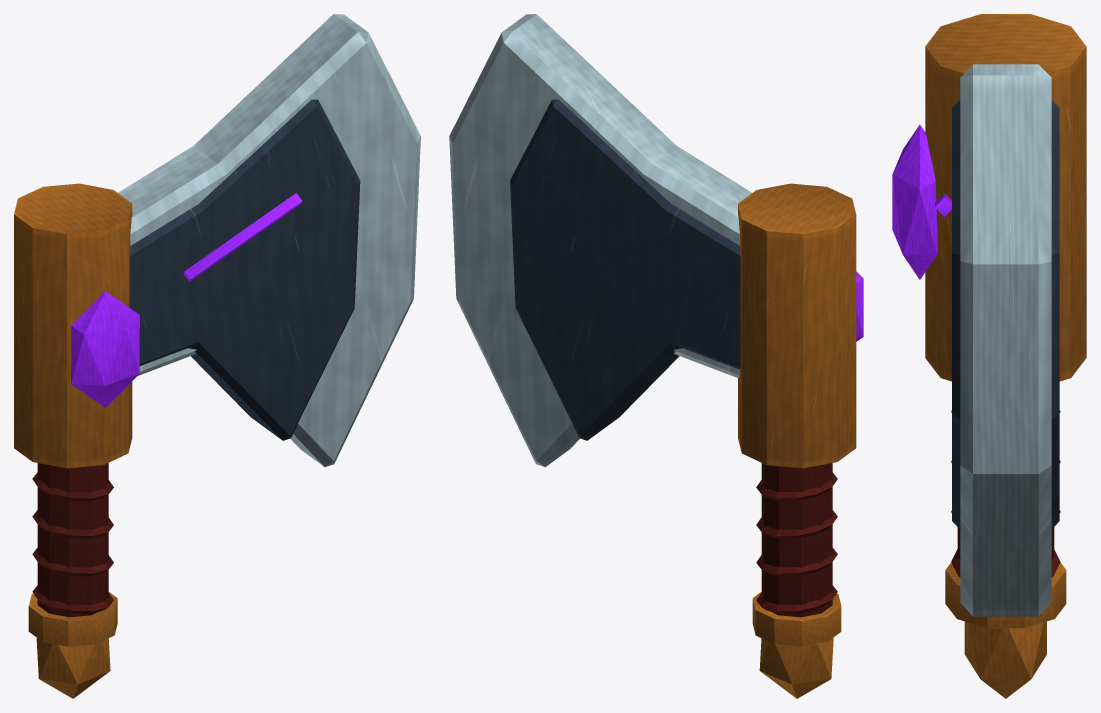
File: axe-t2.glb
The picture shows the model from 3 angles, left to right: view 1: azimuth 30°, elevation 25°; view 2: azimuth 150°, elevation 25°; view 3: azimuth 270°, elevation 25°; orthographic projection. The views are drawn at different scales.
Parts seen in each view (by area): view 1: Axe dark inset, Crescent cutting edge, Axe socket, Leather grip, Void socket, Faceted pommel, Grip ferrule, Axe inlay, Raised grip wrap.002, Raised grip wrap.001, Raised grip wrap, Raised grip wrap.003; view 2: Axe dark inset, Crescent cutting edge, Axe socket, Leather grip, Faceted pommel, Grip ferrule, Raised grip wrap.002, Raised grip wrap.001, Raised grip wrap, Raised grip wrap.003; view 3: Crescent cutting edge, Axe socket, Axe dark inset, Void socket, Faceted pommel, Grip ferrule.
Part boxes in pixels (x1=…): Axe dark inset: x1=129, y1=99, x2=360, y2=440; Crescent cutting edge: x1=118, y1=14, x2=420, y2=466; Axe socket: x1=14, y1=183, x2=132, y2=468; Leather grip: x1=37, y1=463, x2=108, y2=617; Void socket: x1=71, y1=291, x2=139, y2=407; Faceted pommel: x1=36, y1=638, x2=110, y2=698; Grip ferrule: x1=28, y1=592, x2=117, y2=646; Axe inlay: x1=183, y1=193, x2=302, y2=281; Raised grip wrap.002: x1=32, y1=510, x2=113, y2=538; Raised grip wrap.001: x1=32, y1=548, x2=113, y2=576; Raised grip wrap: x1=32, y1=585, x2=113, y2=613; Raised grip wrap.003: x1=32, y1=472, x2=113, y2=500; Axe dark inset: x1=510, y1=99, x2=740, y2=440; Crescent cutting edge: x1=449, y1=14, x2=751, y2=467; Axe socket: x1=738, y1=183, x2=856, y2=468; Leather grip: x1=761, y1=463, x2=832, y2=617; Faceted pommel: x1=759, y1=637, x2=833, y2=698; Grip ferrule: x1=752, y1=592, x2=841, y2=646; Raised grip wrap.002: x1=756, y1=510, x2=837, y2=538; Raised grip wrap.001: x1=756, y1=548, x2=837, y2=576; Raised grip wrap: x1=756, y1=585, x2=837, y2=613; Raised grip wrap.003: x1=756, y1=472, x2=837, y2=500; Crescent cutting edge: x1=960, y1=64, x2=1051, y2=616; Axe socket: x1=925, y1=14, x2=1086, y2=381; Axe dark inset: x1=952, y1=100, x2=1059, y2=529; Void socket: x1=892, y1=124, x2=937, y2=279; Faceted pommel: x1=964, y1=621, x2=1046, y2=698; Grip ferrule: x1=945, y1=562, x2=1066, y2=628.
Bounding box in the file's own units: 0.5954 × 0.9 × 0.195.
1 material, 1 textured.
